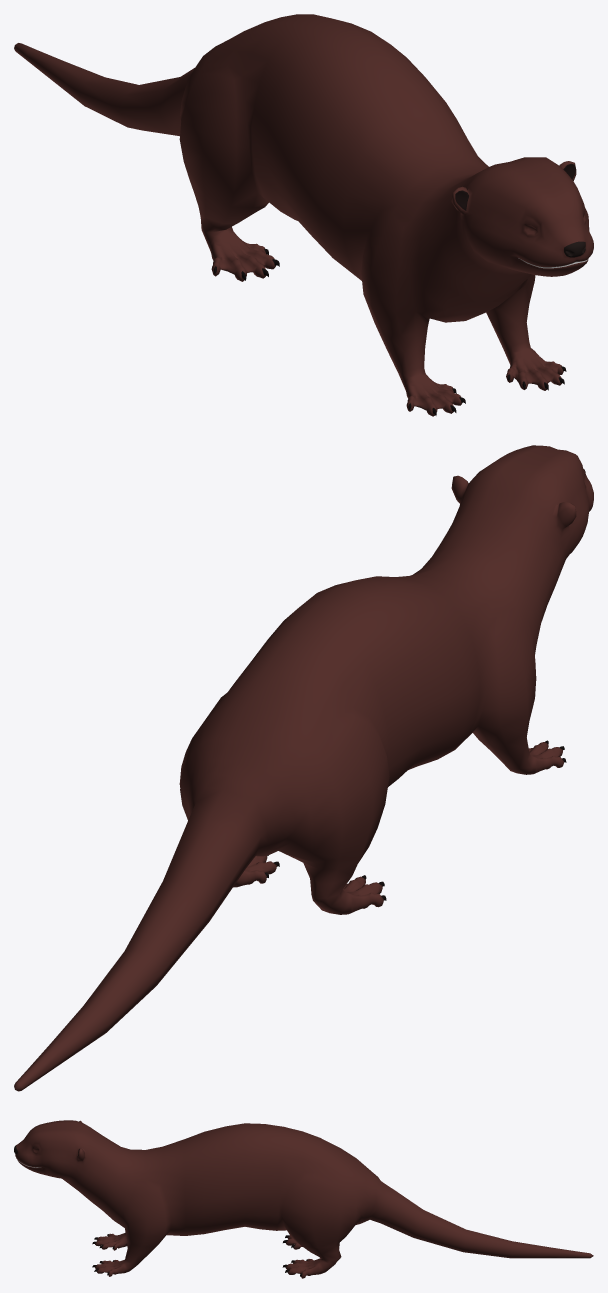
File: otter_otter.obj
3 renders of one model, top to bottom at view 1: azimuth 30°, elevation 25°; view 2: azimuth 150°, elevation 25°; view 3: azimuth 270°, elevation 25°, orthographic. The views are drawn at different scales.
Parts seen in each view (by area): view 1: otter; view 2: otter; view 3: otter.
Boxes of the visible parts, box(x1,y1,x2,y2) form: otter: box(14, 14, 593, 416); otter: box(14, 445, 593, 1091); otter: box(14, 1120, 593, 1278).
Size of the model in its own units: 0.2156 by 0.3073 by 1.22.
